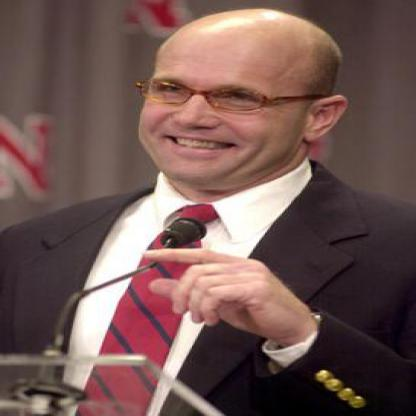face: (131, 10, 317, 188)
